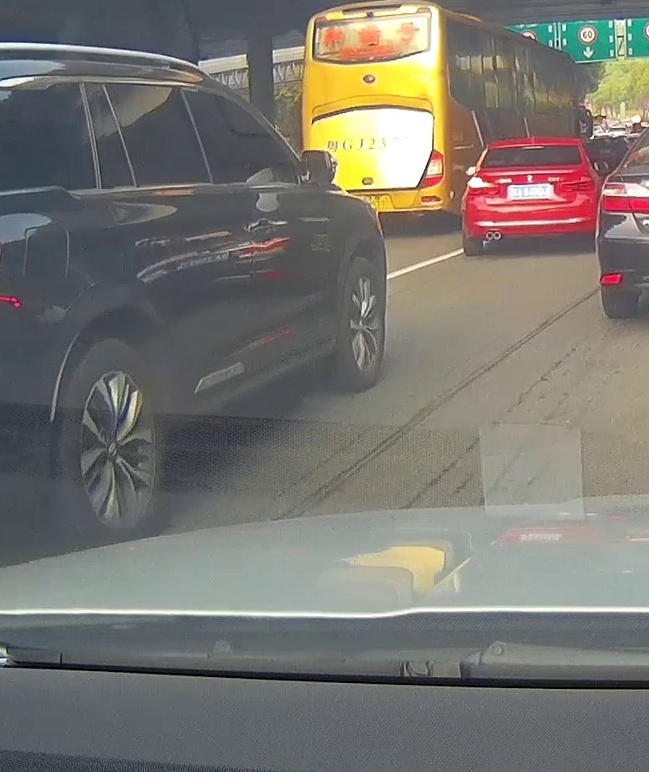L_light: (466, 176, 499, 194)
R_light: (560, 175, 594, 191)
T_light: (522, 146, 545, 149)
day-left: (461, 137, 601, 256)
